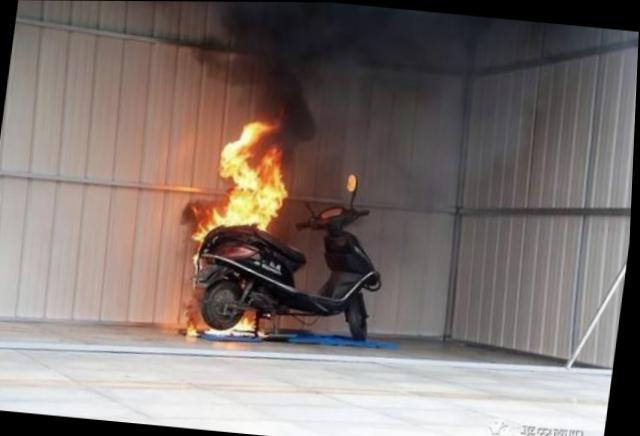fire: (168, 110, 314, 341)
